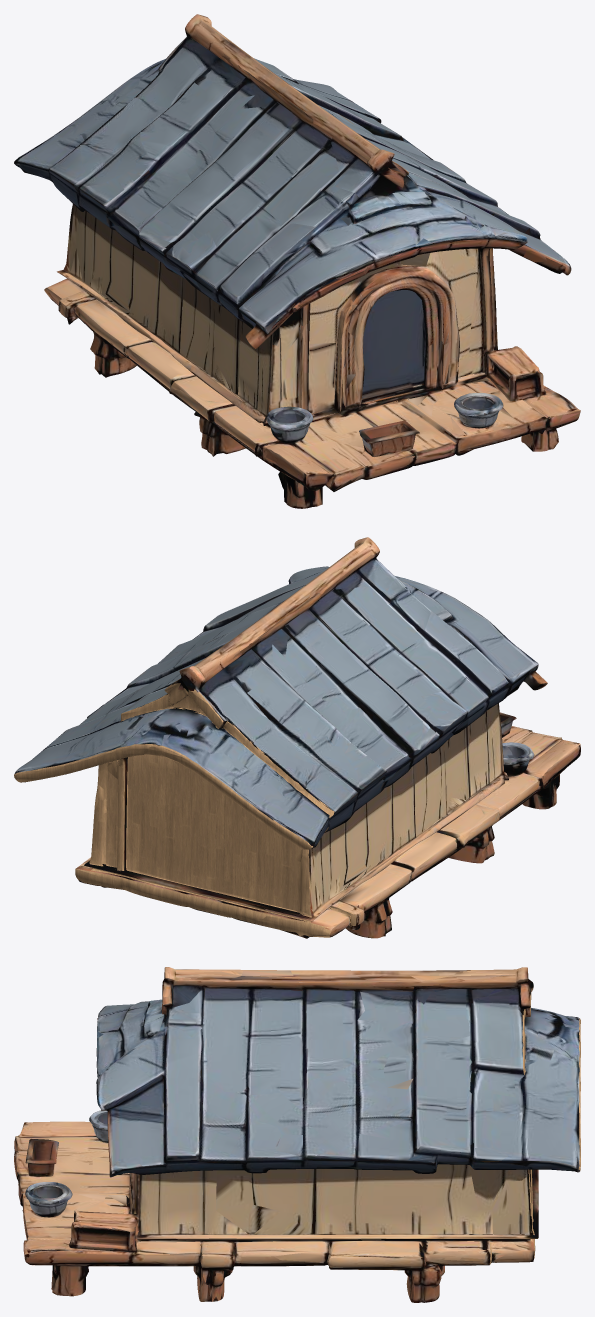
Rendered from bld_pen.glb.
The picture shows the model from 3 angles, top to bottom: view 1: azimuth 30°, elevation 25°; view 2: azimuth 150°, elevation 25°; view 3: azimuth 270°, elevation 25°; orthographic projection. The views are drawn at different scales.
Parts seen in each view (by area): view 1: node_0; view 2: node_0; view 3: node_0.
Boxes of the visible parts, x1=… form: node_0: x1=14, y1=14, x2=580, y2=508; node_0: x1=14, y1=537, x2=580, y2=938; node_0: x1=14, y1=967, x2=580, y2=1302.
Bounding box in the file's own units: 2.37 × 2 × 3.74.
Materials: 2 (2 with a texture image).
